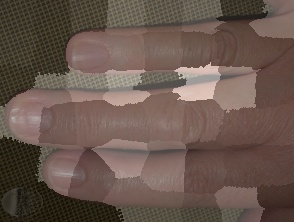Nail_psoriasis: (1, 92, 64, 149)
